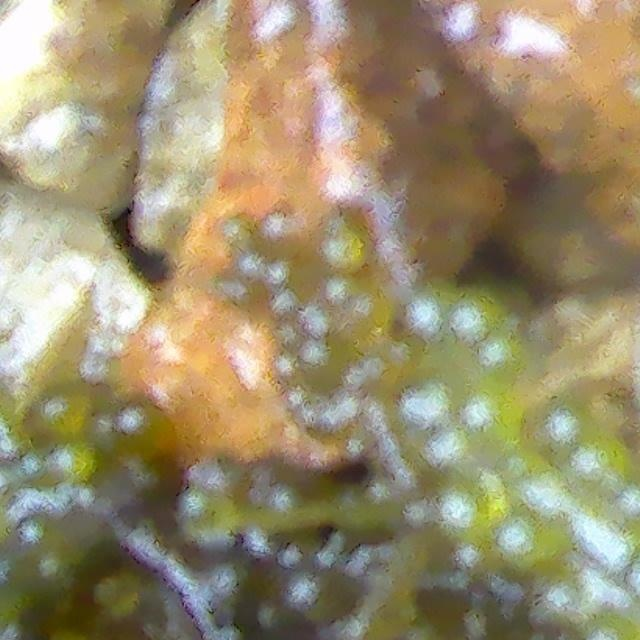SeaGrape: (435, 481, 497, 548), (493, 512, 543, 573)
